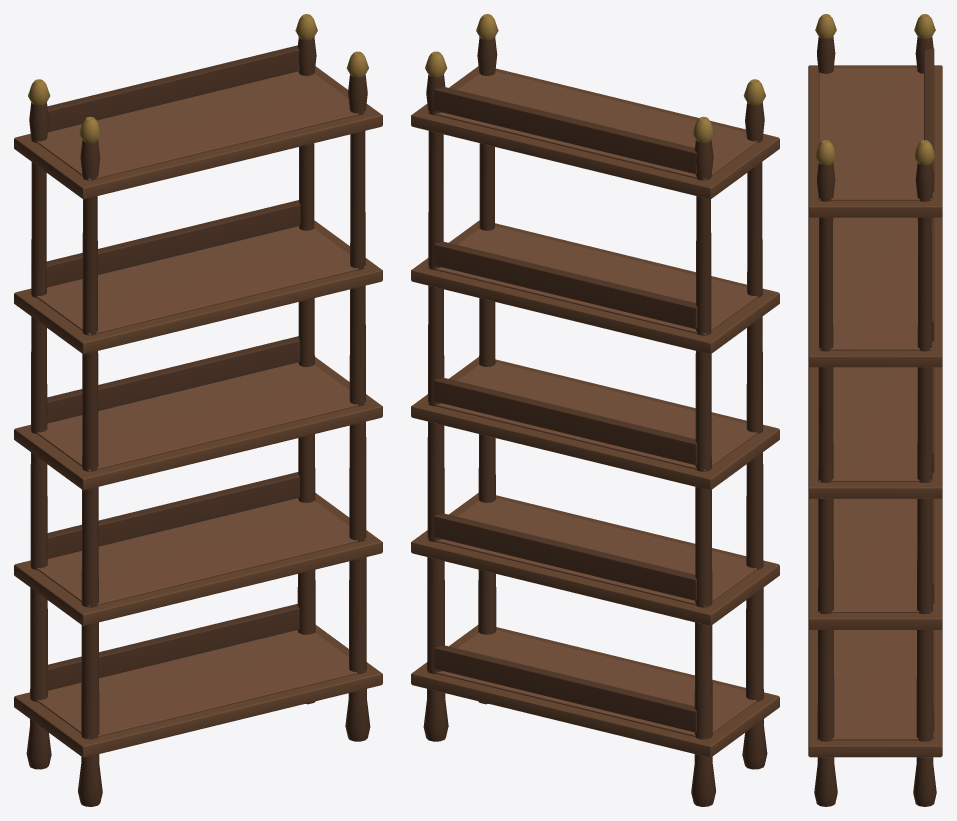
File: rpg-mansion-open-etagere-01.glb
3 views of the same model, side by side, from view 1: azimuth 30°, elevation 25°; view 2: azimuth 150°, elevation 25°; view 3: azimuth 270°, elevation 25° (orthographic). The views are drawn at different scales.
Visible parts, largest first — view 1: rpg-mansion-open-etagere-01; view 2: rpg-mansion-open-etagere-01; view 3: rpg-mansion-open-etagere-01.
Part boxes in pixels (x1=…): rpg-mansion-open-etagere-01: x1=14, y1=14, x2=382, y2=806; rpg-mansion-open-etagere-01: x1=411, y1=14, x2=779, y2=806; rpg-mansion-open-etagere-01: x1=808, y1=14, x2=942, y2=806.
Bounding box in the file's own units: 0.8 × 1.74 × 0.32.
